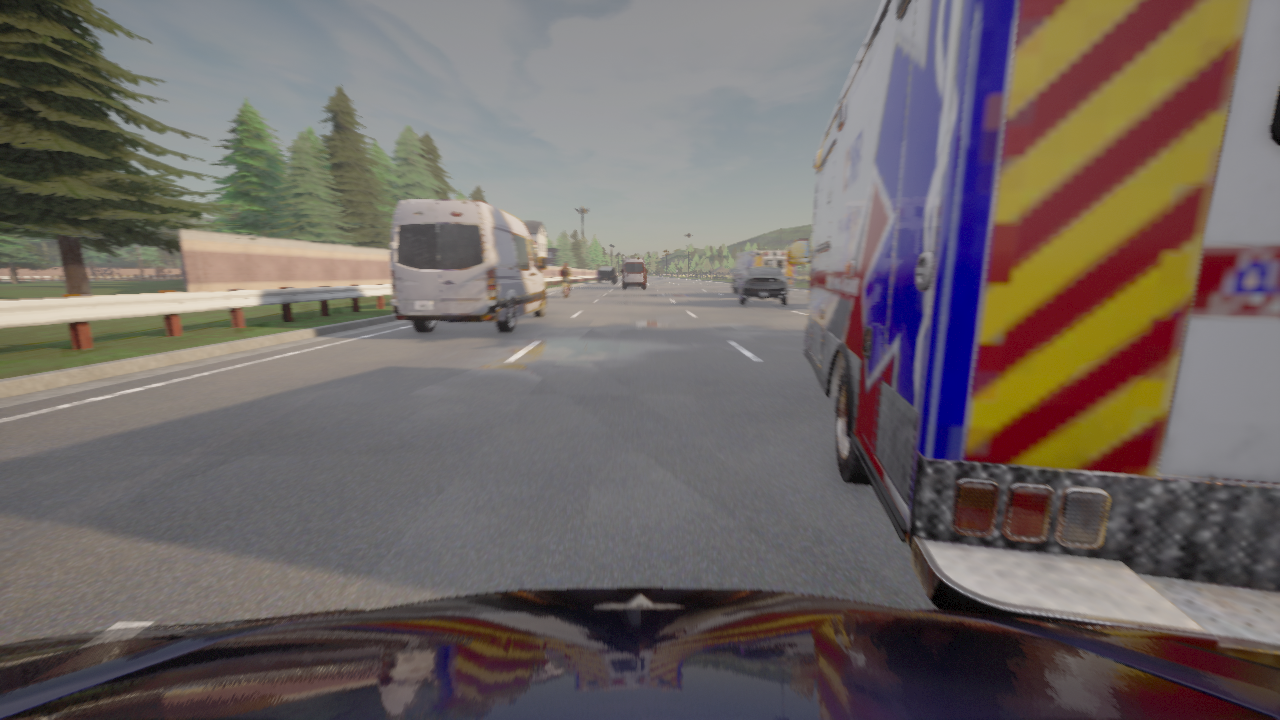cyclist: (787, 0, 1279, 644), (0, 588, 1279, 719), (390, 200, 546, 332), (730, 250, 795, 293), (738, 266, 791, 305), (622, 258, 646, 288), (597, 267, 616, 283), (564, 282, 568, 297), (663, 273, 665, 275)
